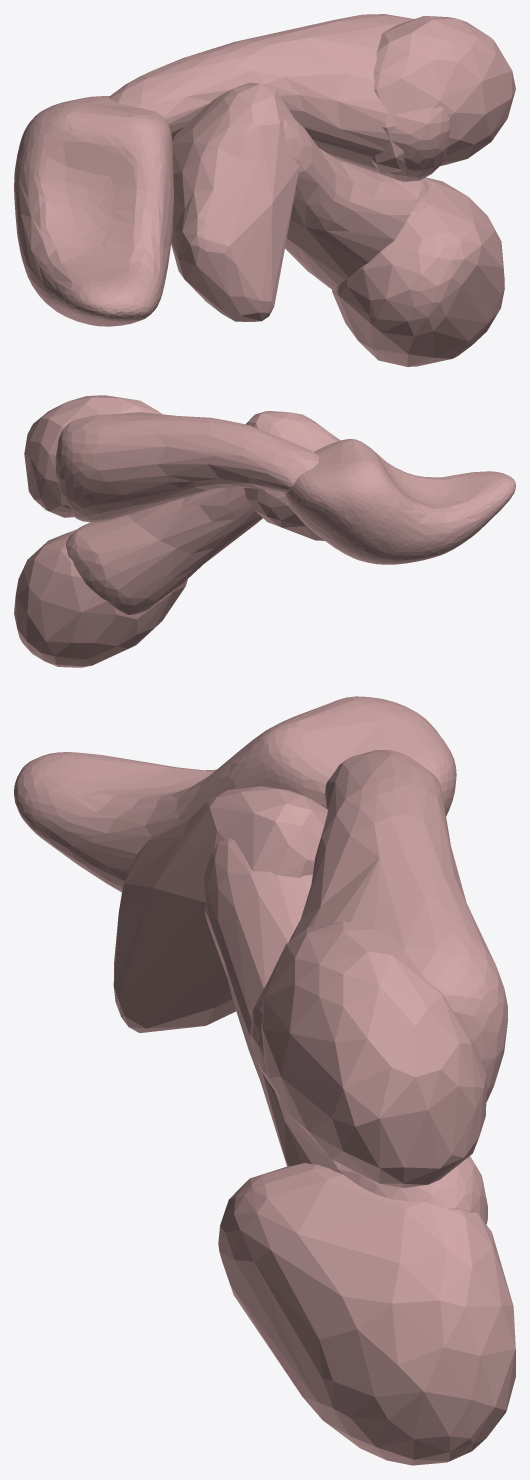
File: Superior_colliculus.obj
The picture shows the model from 3 angles, top to bottom: view 1: azimuth 30°, elevation 25°; view 2: azimuth 150°, elevation 25°; view 3: azimuth 270°, elevation 25°; orthographic projection. The views are drawn at different scales.
Parts seen in each view (by area): view 1: obj0; view 2: obj0; view 3: obj0.
Boxes of the visible parts, bbox=[...] form: obj0: bbox=[14, 14, 515, 366]; obj0: bbox=[14, 395, 515, 667]; obj0: bbox=[14, 696, 515, 1465].
Bounding box in the file's own units: 16.32 × 10.37 × 9.14.
Materials: 1 (1 with a texture image).
